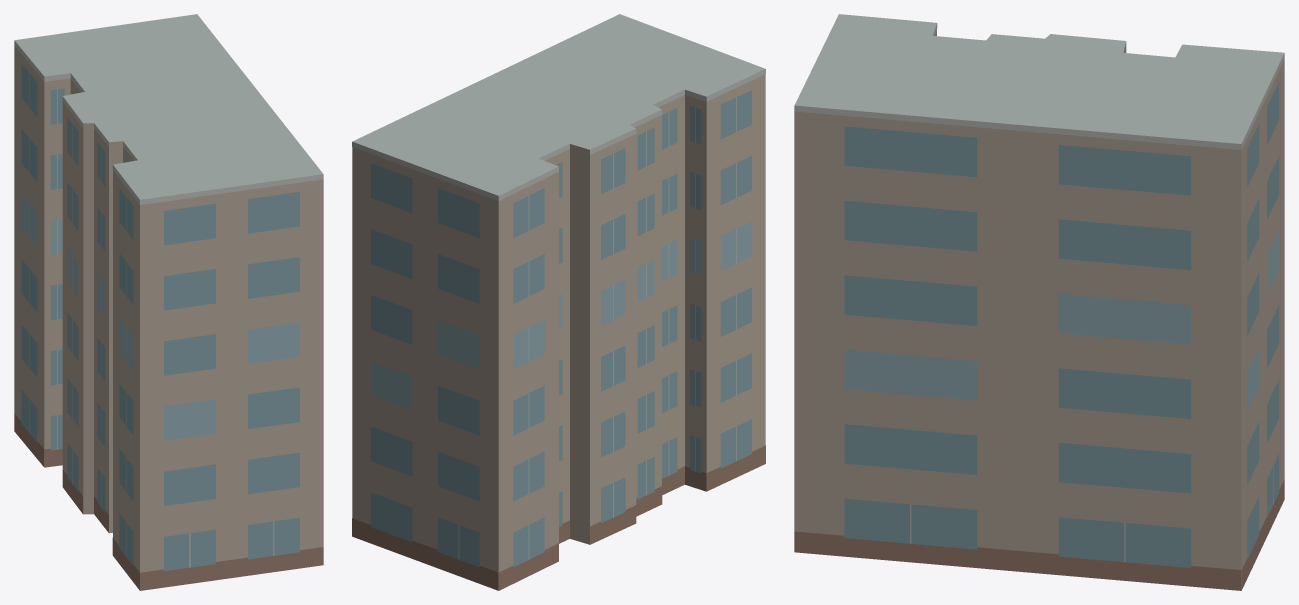
Rendered from survey-upis-32700443.glb.
The picture shows the model from 3 angles, left to right: view 1: azimuth 30°, elevation 25°; view 2: azimuth 150°, elevation 25°; view 3: azimuth 270°, elevation 25°; orthographic projection. The views are drawn at different scales.
Visible parts, largest first — view 1: survey-upis-32700443.tmp; view 2: survey-upis-32700443.tmp; view 3: survey-upis-32700443.tmp.
Boxes of the visible parts, x1,y1,x2,y2 form: survey-upis-32700443.tmp: [14, 14, 323, 590]; survey-upis-32700443.tmp: [352, 14, 765, 590]; survey-upis-32700443.tmp: [794, 14, 1284, 590].
Bounding box in the file's own units: 11.44 × 18.3 × 18.21.
